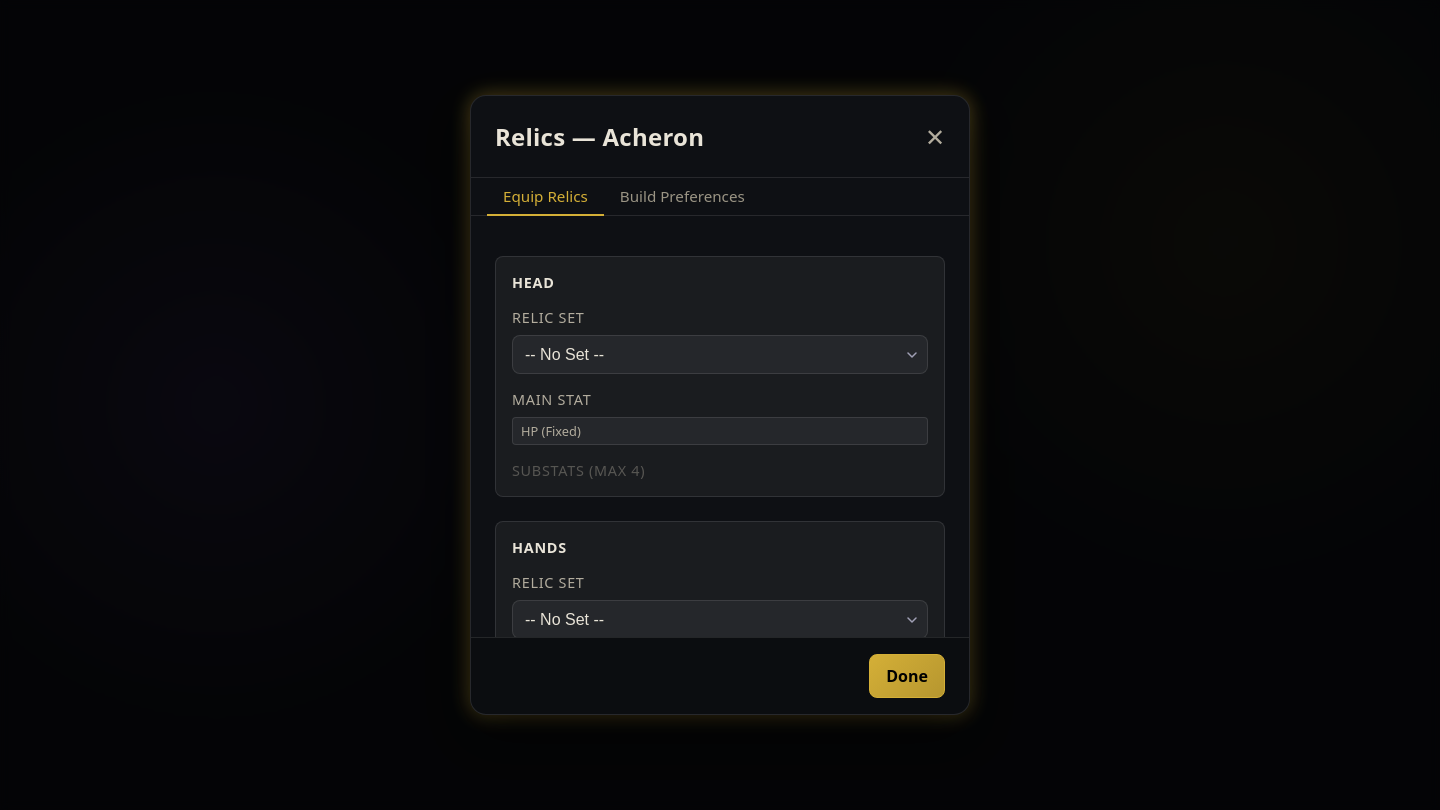
Test: RelicEditorModal › pre-populates existing build comments in the textarea
The image size is (1440, 810).
Click the button "Build Preferences" at point(682, 197), box [604,178,761,216]
(page scrolled)
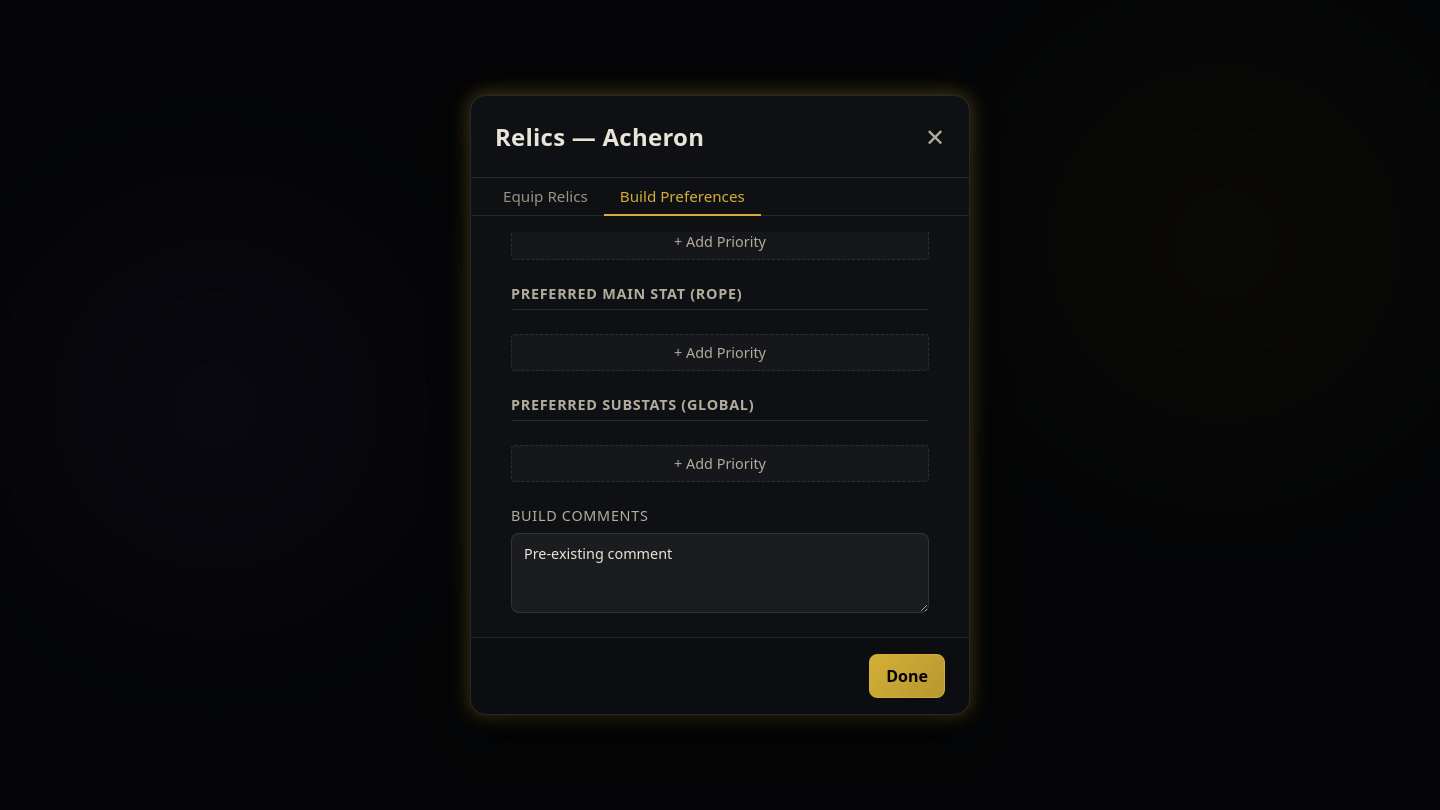
Now the text box showing "Pre-existing comment" is shown, box [511,533,929,613]
